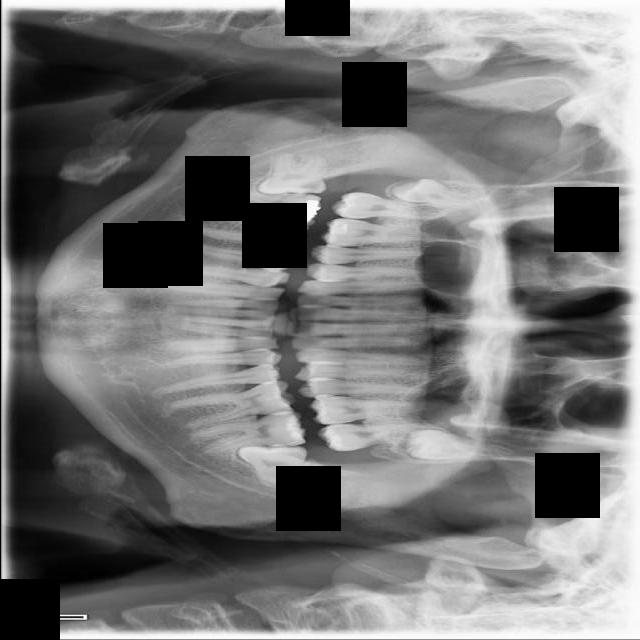3M ESPE Implant: (389, 174, 481, 210)
52: (255, 208, 313, 267), (246, 372, 300, 428), (258, 405, 310, 454), (272, 188, 323, 230), (318, 217, 371, 249), (317, 423, 373, 453), (331, 192, 382, 219), (294, 192, 310, 196), (281, 443, 290, 448)
73: (74, 574, 80, 578)
BioHorizons Implant: (317, 421, 446, 453)
BioLife Implant: (403, 428, 520, 464)
Biomet 3i Implant: (237, 444, 313, 488)
Blue Sky Bio Implant: (189, 410, 309, 456)
Caries: (331, 192, 460, 220)
Implant: (205, 182, 323, 229)
Keystone Dental Implant: (256, 151, 328, 196)
